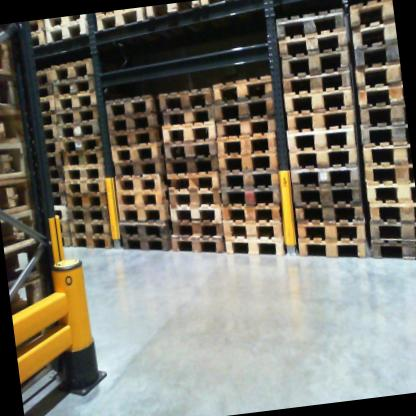pallet: (220, 207, 287, 253), (294, 208, 369, 249), (281, 117, 358, 155), (288, 174, 364, 212), (217, 177, 286, 218), (272, 1, 348, 38), (279, 97, 355, 134), (282, 138, 357, 175), (210, 86, 280, 124), (277, 64, 355, 98), (8, 269, 53, 327), (293, 195, 363, 232), (275, 45, 351, 79), (280, 82, 356, 116), (213, 106, 279, 144), (210, 66, 274, 105), (296, 230, 366, 265), (214, 143, 280, 180), (4, 239, 55, 286), (219, 195, 286, 230), (285, 159, 360, 190), (213, 124, 280, 158), (215, 157, 282, 191), (0, 171, 44, 220), (224, 229, 288, 262), (274, 28, 348, 56), (163, 165, 222, 200), (0, 208, 48, 251), (168, 229, 224, 265), (362, 175, 416, 211), (356, 138, 412, 172), (160, 134, 217, 167), (115, 194, 172, 227), (156, 80, 216, 111), (158, 117, 218, 147), (168, 213, 226, 244), (0, 58, 31, 116), (102, 88, 163, 117), (362, 156, 414, 190), (117, 213, 175, 243), (364, 194, 416, 227), (105, 105, 164, 134), (116, 227, 175, 256), (110, 170, 167, 199), (112, 182, 173, 209), (345, 18, 397, 49), (163, 154, 218, 183), (0, 103, 36, 147), (0, 139, 38, 180), (170, 198, 220, 229), (107, 154, 166, 180), (368, 216, 416, 247), (165, 185, 218, 213), (369, 235, 416, 266), (356, 84, 404, 114), (110, 122, 165, 148), (353, 60, 402, 89), (351, 40, 398, 70), (358, 121, 409, 148), (49, 54, 99, 81), (109, 140, 162, 165), (93, 7, 148, 31), (160, 105, 216, 128), (349, 0, 394, 27), (49, 75, 101, 98), (67, 229, 113, 253), (358, 104, 404, 128), (48, 19, 89, 45), (68, 217, 113, 239), (63, 158, 108, 180), (57, 119, 101, 141), (62, 175, 108, 196), (0, 25, 20, 73), (53, 90, 101, 109), (43, 14, 88, 34), (147, 1, 202, 17), (61, 103, 103, 123), (66, 191, 110, 210), (67, 204, 108, 224), (199, 0, 264, 12), (59, 136, 102, 154), (61, 150, 99, 167), (27, 26, 49, 49), (36, 94, 57, 116), (41, 122, 63, 141), (33, 64, 52, 86), (47, 204, 67, 220), (44, 153, 64, 169), (47, 179, 66, 195), (43, 139, 62, 155), (50, 218, 70, 233), (48, 193, 67, 208), (39, 113, 61, 125), (45, 167, 65, 180), (35, 84, 55, 96), (25, 21, 45, 33), (62, 233, 72, 249)
